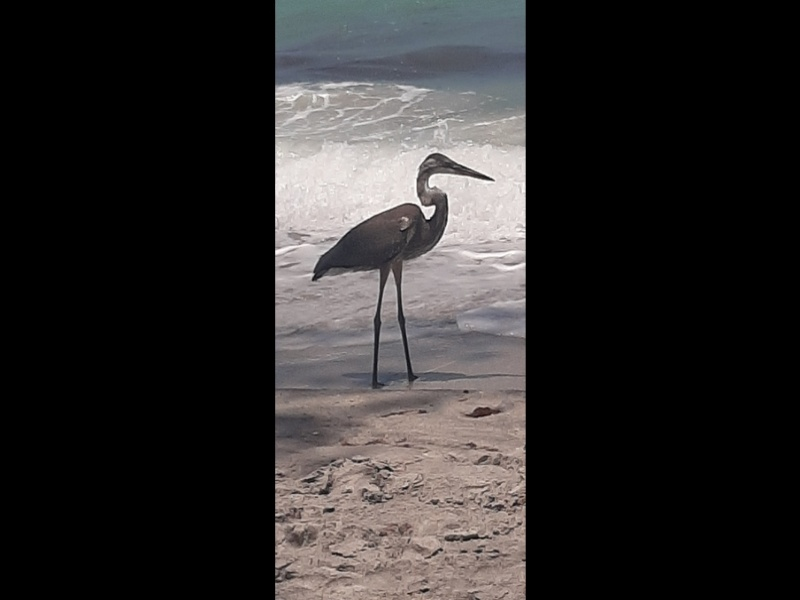heron: (307, 149, 495, 397)
